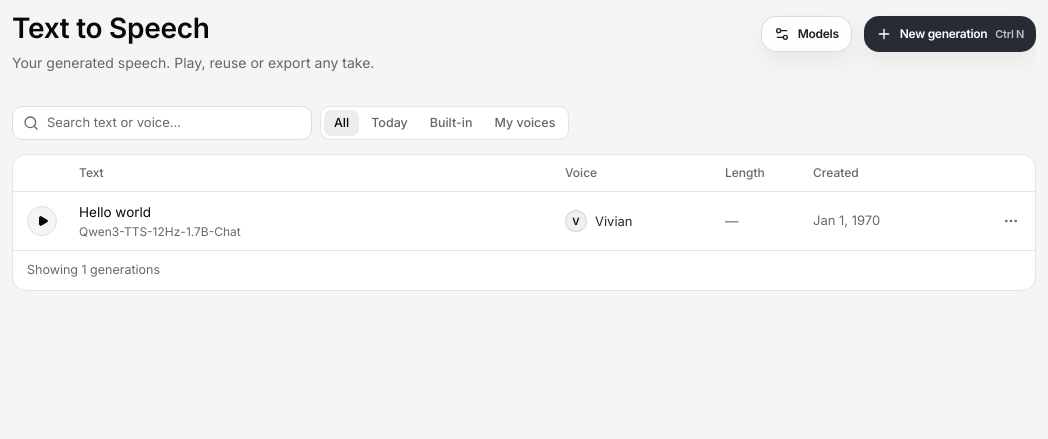
Test: TextToSpeechPage › shows standard row actions from the text-to-speech history menu
This screenshot has width=1048, height=439.
Expected: the text "Hello world" is shown, left=79, top=204, right=151, bottom=220
Press the mouse on the button named "More actions for Hello world" at x=1011, y=221, box left=997, top=207, right=1025, bottom=235
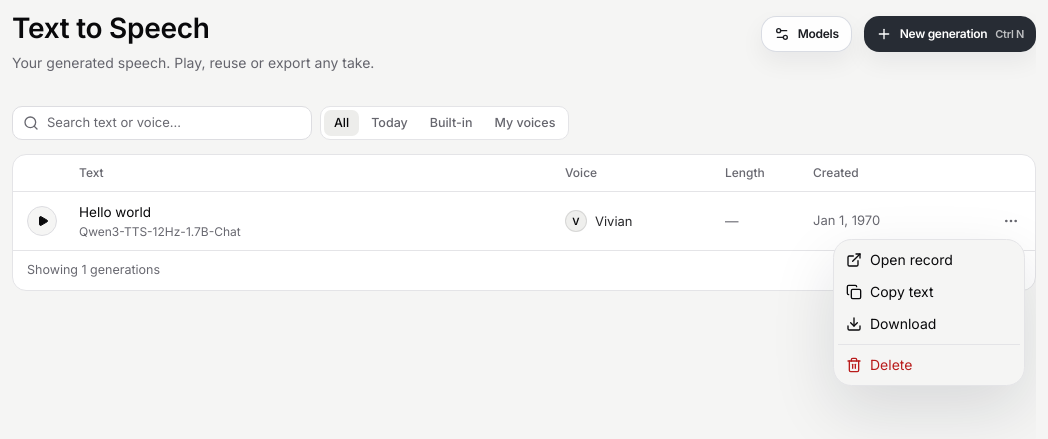
Expected: the menu item "Open record" is shown, left=846, top=251, right=953, bottom=268
Expected: the menu item "Copy text" is shown, left=846, top=283, right=934, bottom=300
Expected: the menu item "Download" is shown, left=846, top=315, right=936, bottom=332
